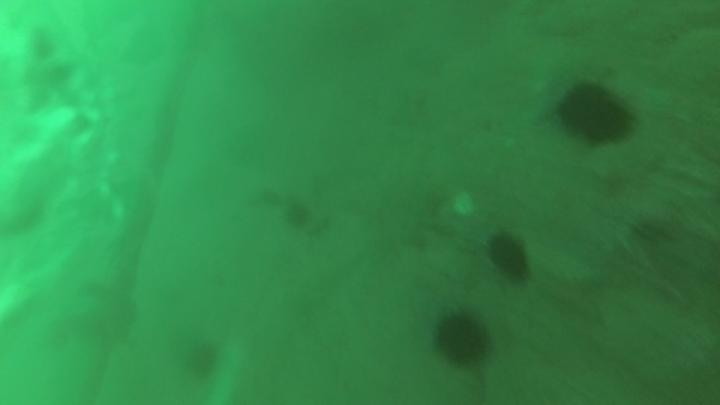echinus: (545, 69, 640, 153), (428, 301, 499, 373), (479, 224, 541, 289)
